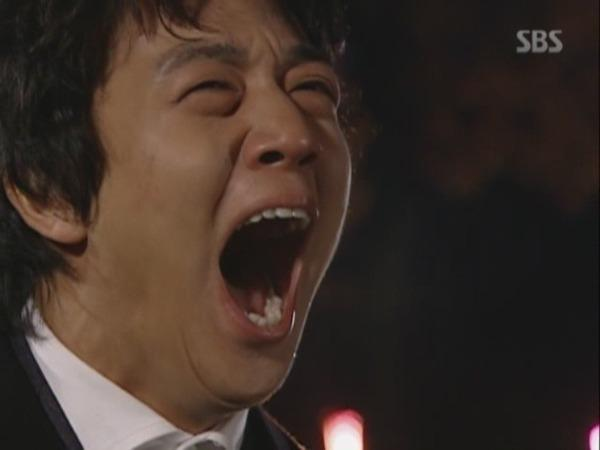sad: (120, 9, 345, 394)
